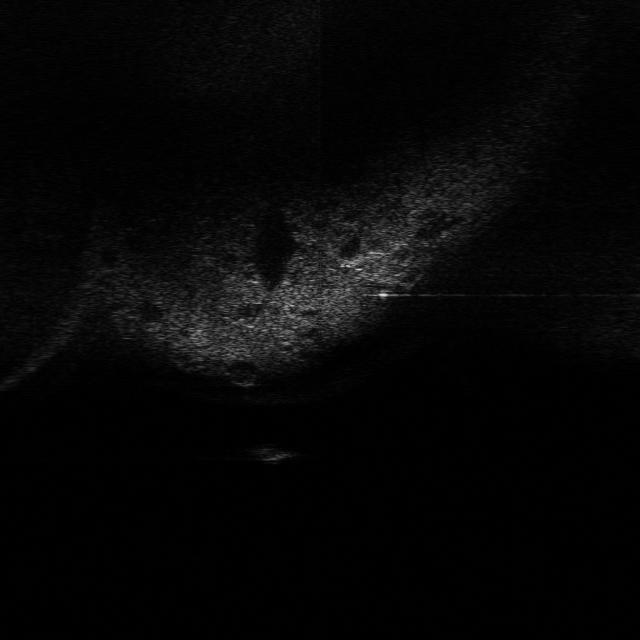cube: (240, 442, 300, 467)
